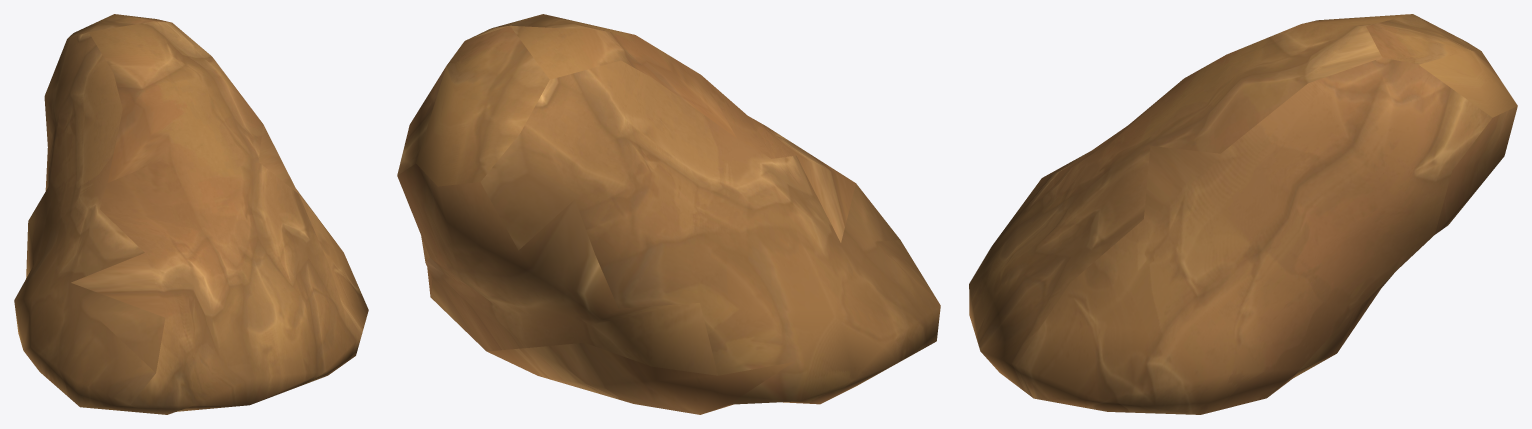
The model's file is SM_Rock_1.fbx.
3 views of the same model, side by side, from view 1: azimuth 30°, elevation 25°; view 2: azimuth 150°, elevation 25°; view 3: azimuth 270°, elevation 25° (orthographic). The views are drawn at different scales.
Parts seen in each view (by area): view 1: Cube.002; view 2: Cube.002; view 3: Cube.002.
Part boxes in pixels (box(x1,y1,x2,y2)): Cube.002: box(14, 14, 368, 414); Cube.002: box(397, 14, 940, 414); Cube.002: box(969, 14, 1517, 414).
Bounding box in the file's own units: 1290 × 1122 × 1566.
